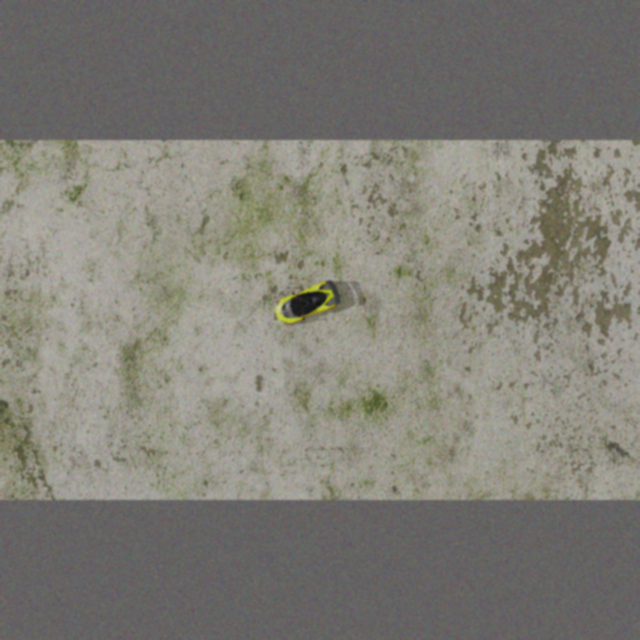car: (270, 276, 344, 330)
